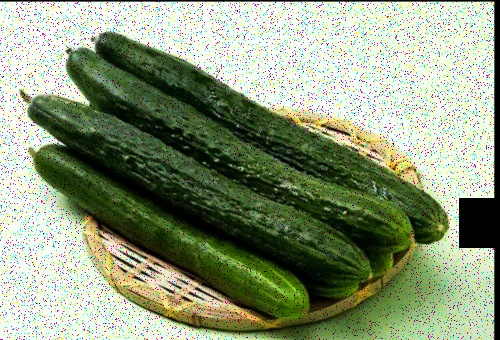cucumber: (95, 26, 443, 231), (66, 50, 421, 237), (25, 91, 364, 277), (27, 142, 305, 311)
